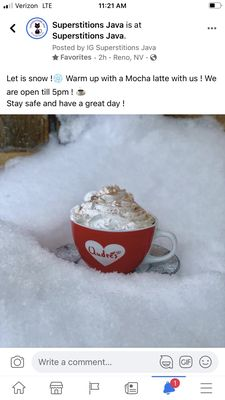pizza: (69, 185, 157, 275)
